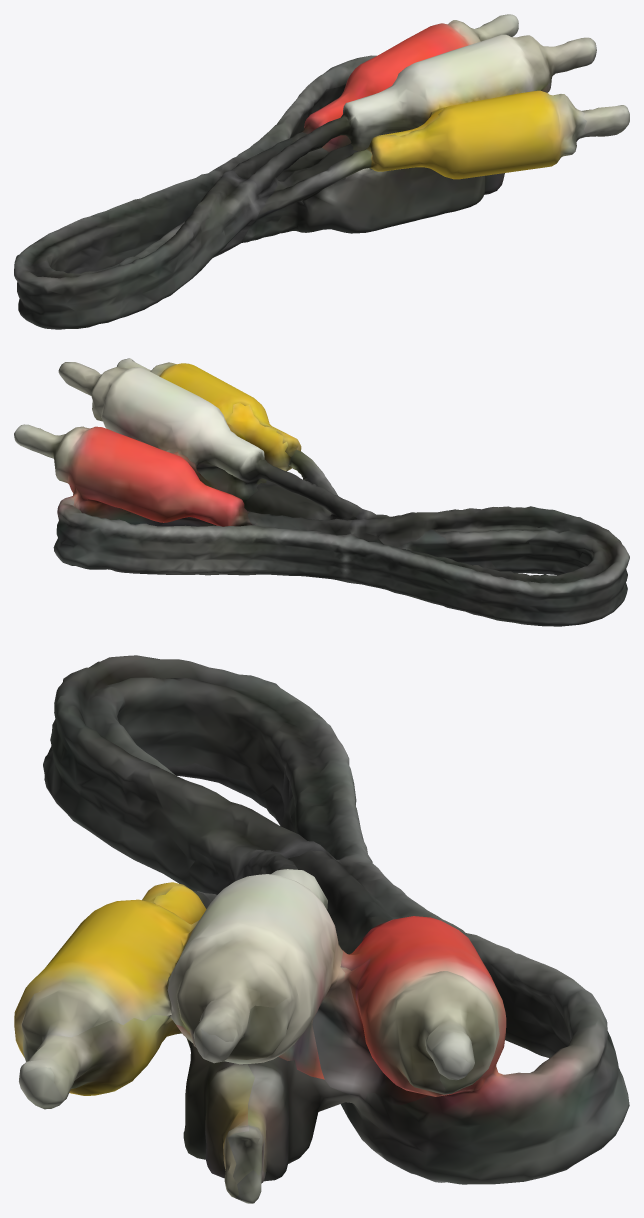
The model's file is GoPro_HERO3_Composite_Cable-high.glb.
3 views of the same model, one above another, from view 1: azimuth 30°, elevation 25°; view 2: azimuth 150°, elevation 25°; view 3: azimuth 270°, elevation 25° (orthographic). The views are drawn at different scales.
Visible parts, largest first — view 1: GoPro_HERO3_Composite_Cable; view 2: GoPro_HERO3_Composite_Cable; view 3: GoPro_HERO3_Composite_Cable.
Part boxes in pixels (<box>): GoPro_HERO3_Composite_Cable: <box>14,14,629,329</box>; GoPro_HERO3_Composite_Cable: <box>14,358,629,626</box>; GoPro_HERO3_Composite_Cable: <box>14,655,629,1203</box>.
Size of the model in its own units: 0.0986 by 0.0248 by 0.0479.
1 material, 1 textured.
